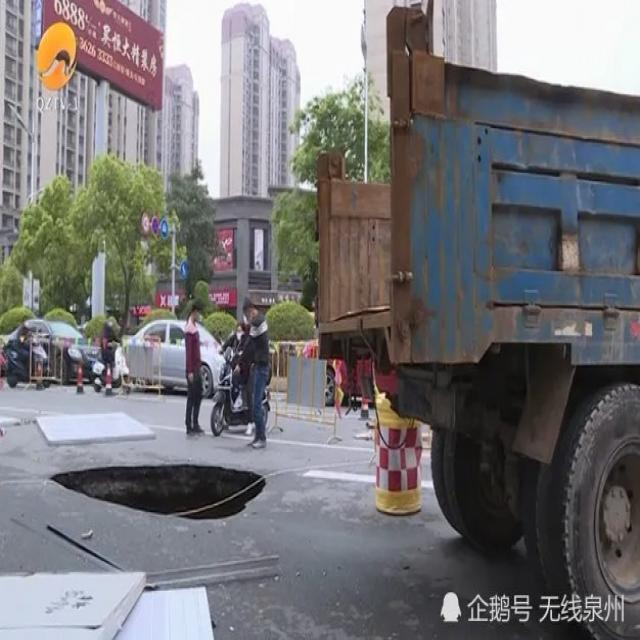pothole: (46, 458, 270, 528)
